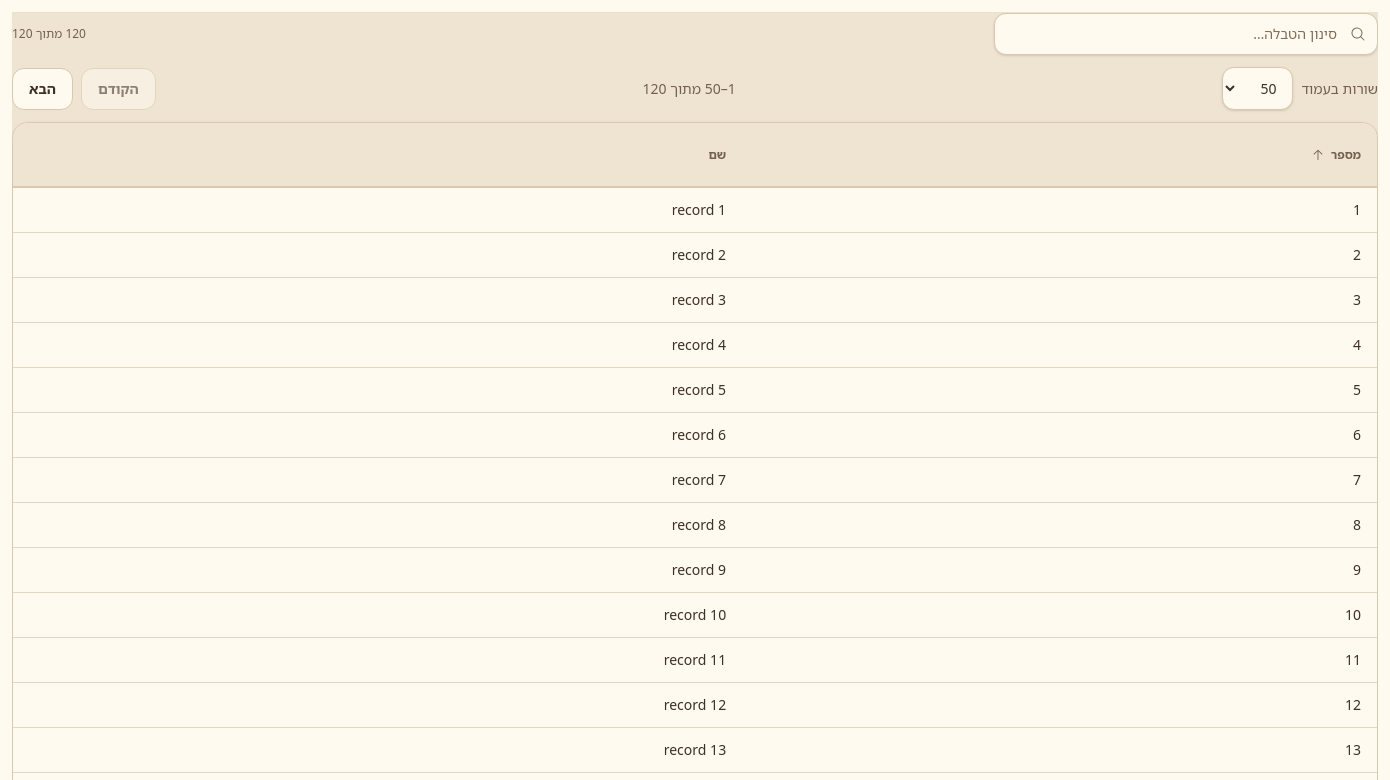
DataTable pagination › returns a pinned sort to the natural reading start and preserves the focused control
Click the button with aria-label "העמוד הבא" at (42, 88), box [12,68,73,110]
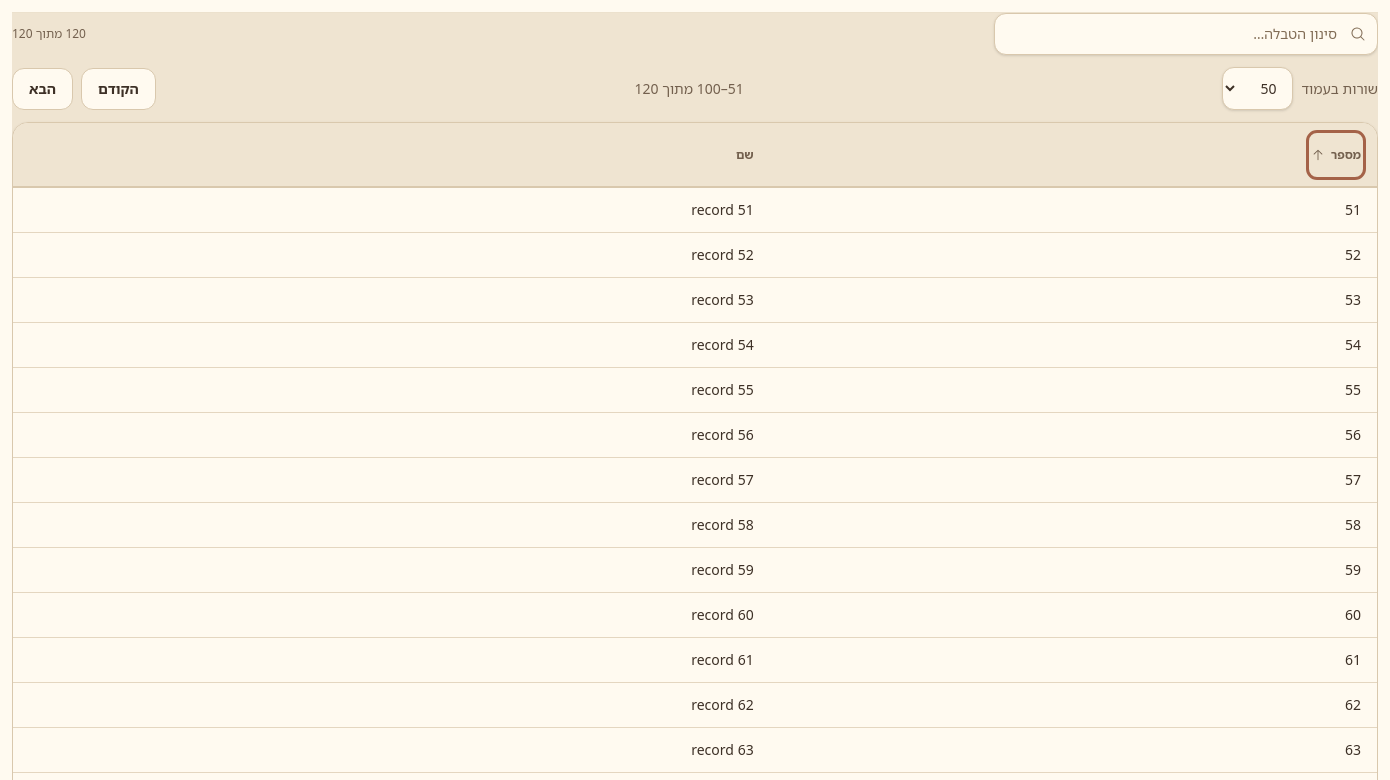
Click the button "מספר" at (1336, 155), box [1311,135,1361,175]
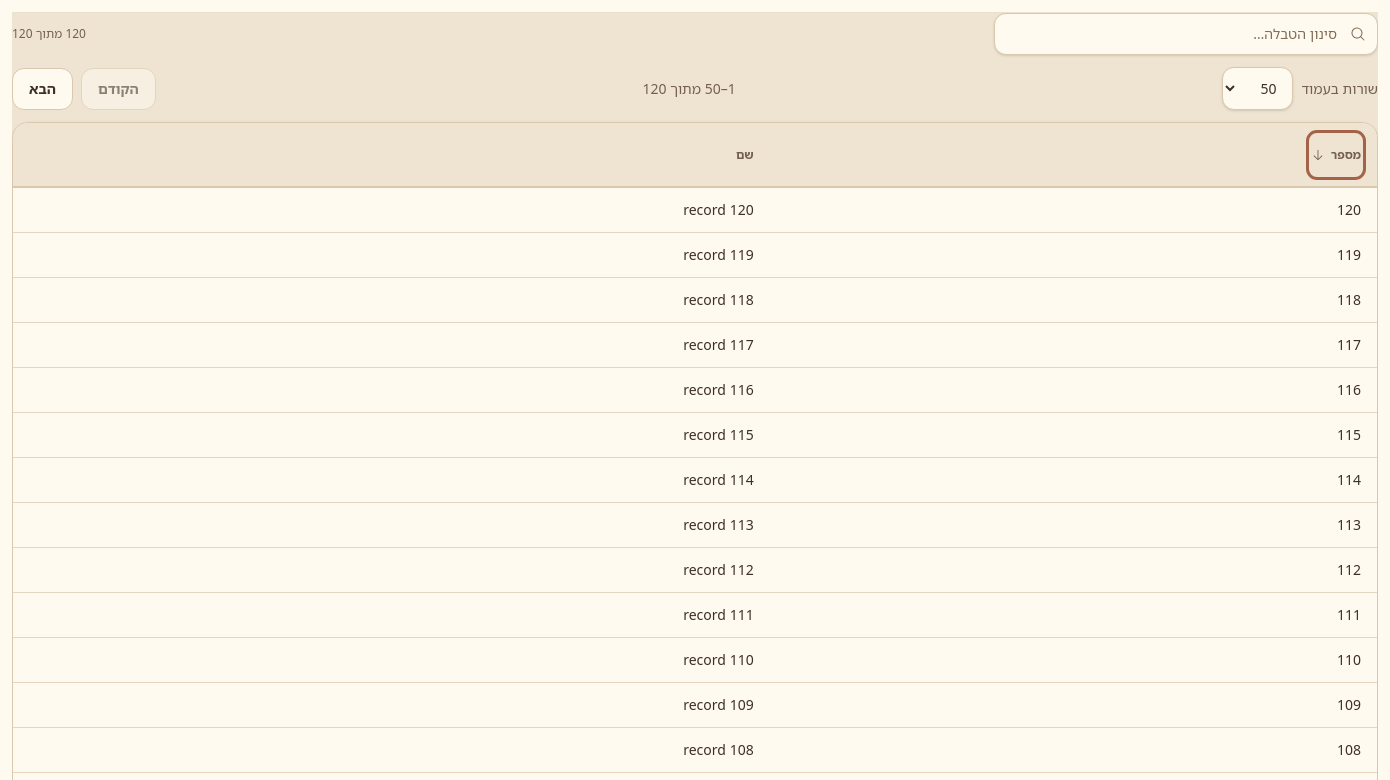
Result: the text "1–50 מתוך 120" is shown at [642,78,736,98]
